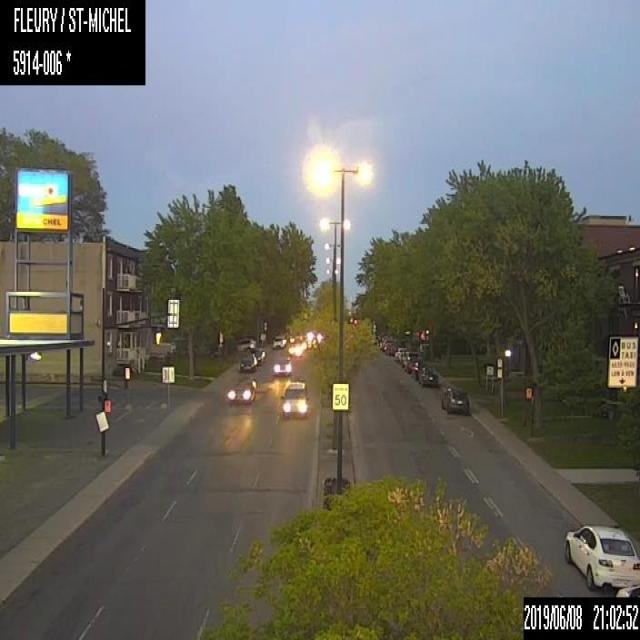vehicle: (563, 521, 639, 592), (281, 379, 310, 417), (225, 376, 257, 404), (441, 384, 470, 413), (403, 351, 421, 372), (418, 367, 438, 385), (238, 351, 255, 372), (409, 361, 426, 380), (236, 336, 256, 351), (271, 359, 292, 373), (287, 340, 304, 357), (271, 332, 286, 347), (252, 347, 264, 365), (393, 346, 407, 361)
